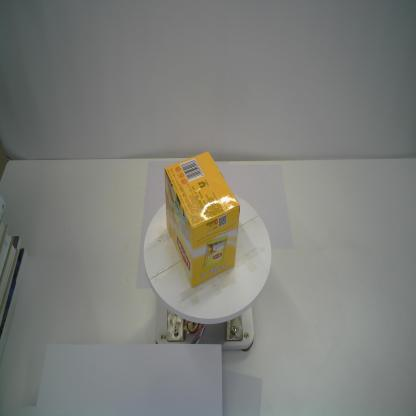Instant Drink: (165, 150, 240, 288)
